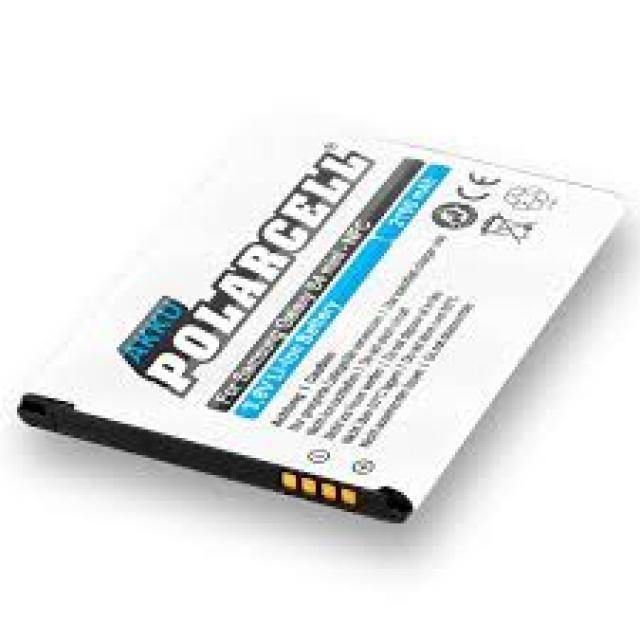battery: (17, 135, 629, 524)
